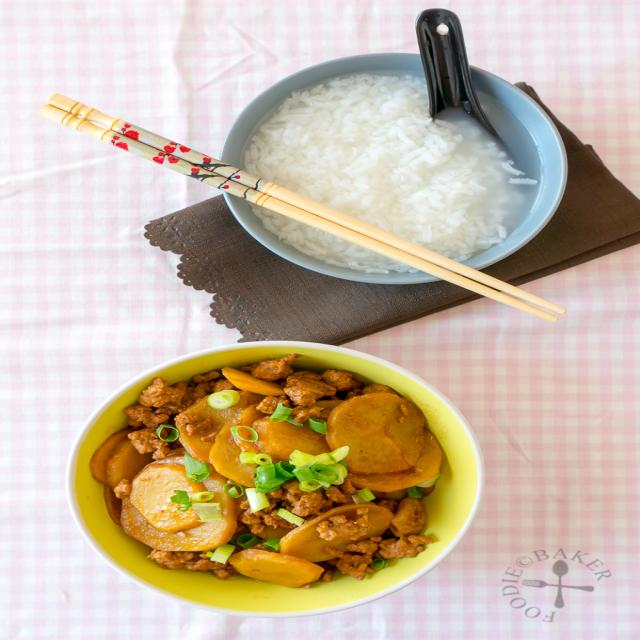Potato: (180, 391, 441, 491), (241, 354, 388, 422), (130, 459, 236, 550), (124, 371, 233, 458), (326, 499, 431, 579), (230, 521, 350, 587), (284, 466, 374, 522), (345, 502, 391, 536), (315, 515, 357, 539)
Rice: (245, 74, 519, 260), (253, 206, 413, 274)
